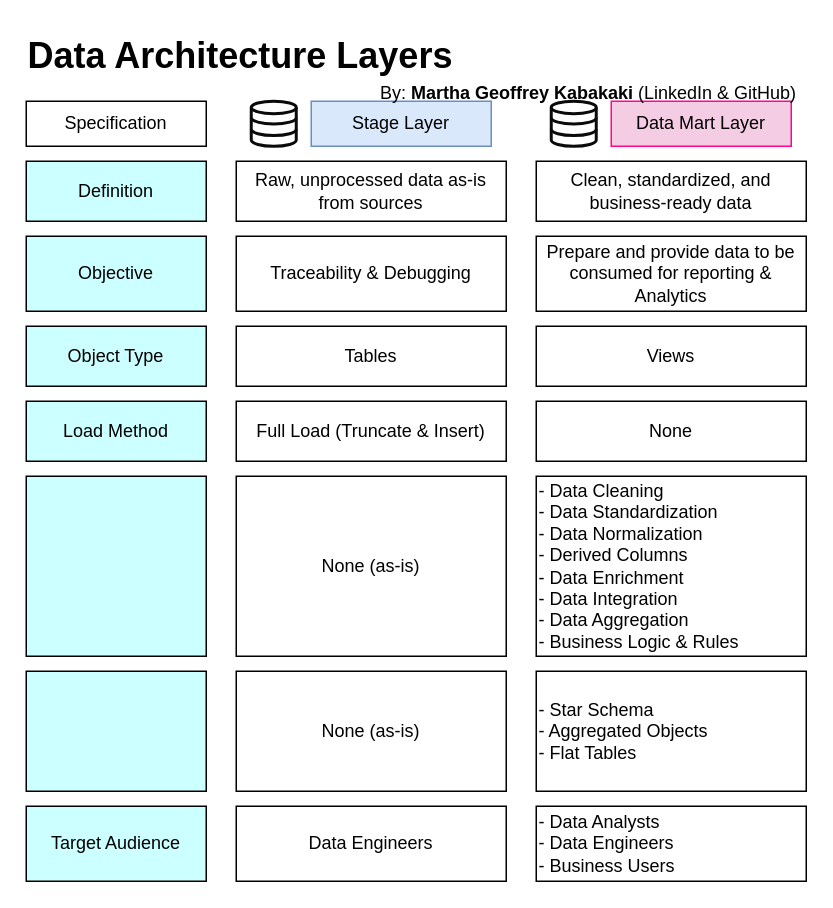
Some shapes in this 833 by 908 pixel diagram are drawn without their labels. Here are the shapes that lost their labels. From the top down, the centre of each, then its label:
At [115,565]: "Data Transformation".
At [115,730]: "Data Modeling".
